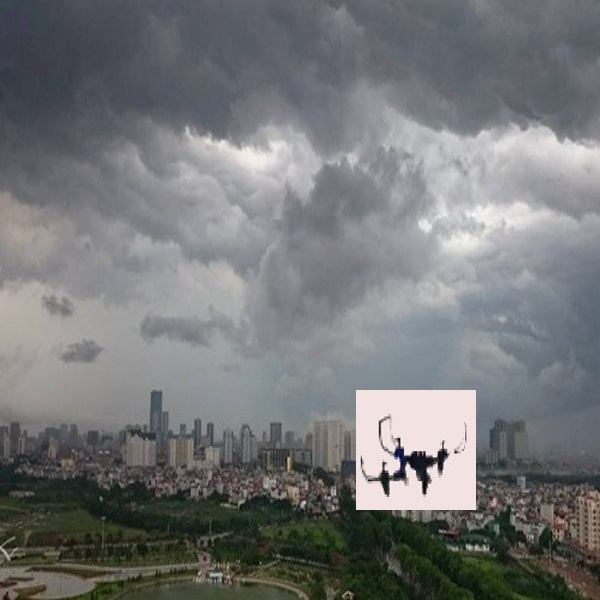drone: (362, 408, 474, 510)
